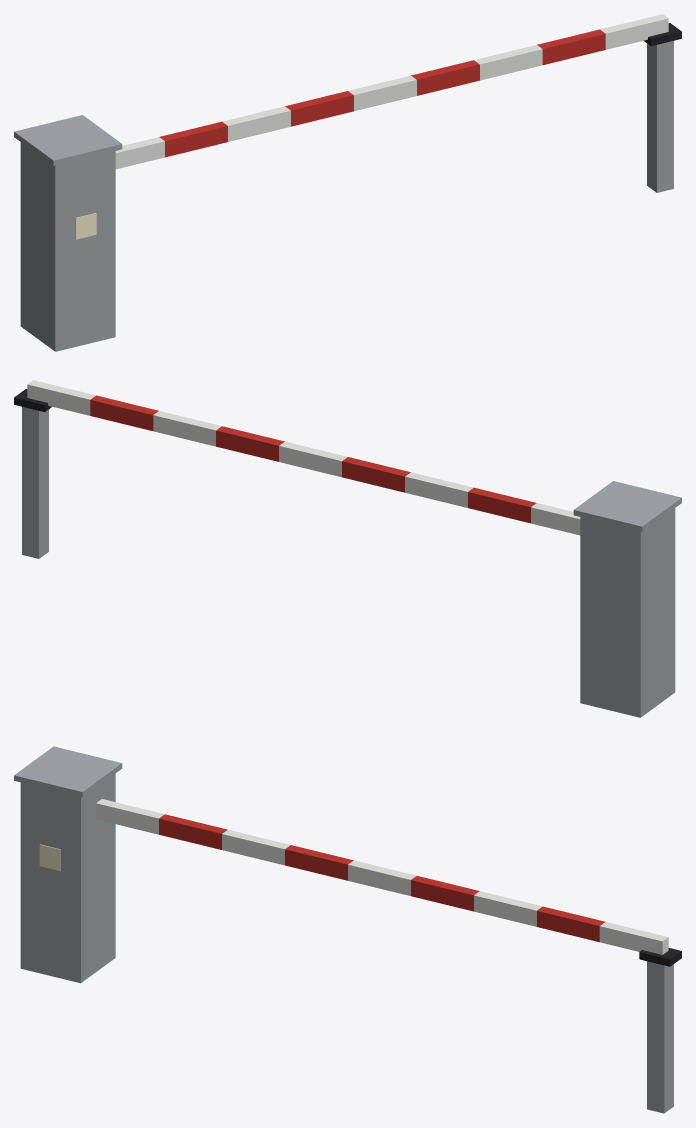
3 views of the same model, one above another, from view 1: azimuth 30°, elevation 25°; view 2: azimuth 150°, elevation 25°; view 3: azimuth 330°, elevation 25° (orthographic).
Visible parts, largest first — view 1: automatic=true;gateType=barrier;height=1;leafThickness=0.05; (×3); view 2: automatic=true;gateType=barrier;height=1;leafThickness=0.05; (×3); view 3: automatic=true;gateType=barrier;height=1;leafThickness=0.05; (×3).
Boxes of the visible parts, x1,y1,x2,y2 form: automatic=true;gateType=barrier;height=1;leafThickness=0.05; (×3): [14, 14, 673, 351]; automatic=true;gateType=barrier;height=1;leafThickness=0.05; (×3): [22, 380, 681, 717]; automatic=true;gateType=barrier;height=1;leafThickness=0.05; (×3): [14, 746, 673, 1113].
Size of the model in its own units: 3.74 by 0.4 by 1.08.
